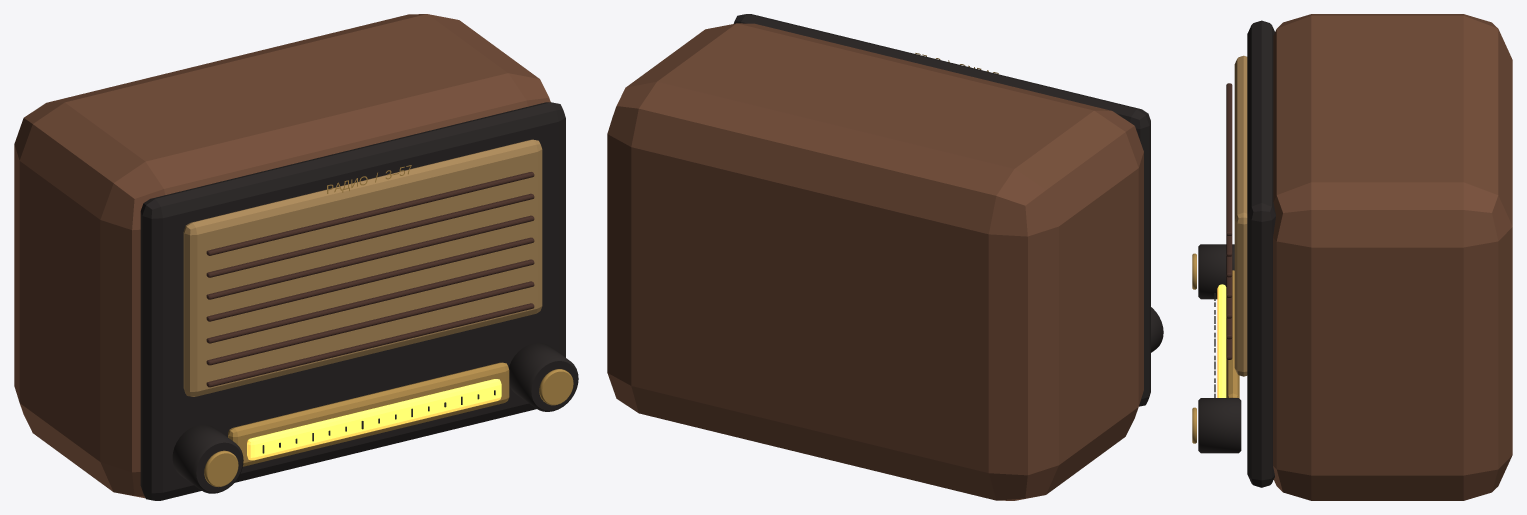
The model's file is ValveRadio.fbx.
3 renders of one model, left to right at view 1: azimuth 30°, elevation 25°; view 2: azimuth 150°, elevation 25°; view 3: azimuth 270°, elevation 25°, orthographic. The views are drawn at different scales.
Parts seen in each view (by area): view 1: Veneered housing, Speaker grille, Bakelite fascia, Tuning window, Warm tuning scale, Tuning control, Tuning control.001, Grille rib.003, Grille rib.001, Grille rib, Grille rib.005, Grille rib.006 (+4 smaller); view 2: Veneered housing, Bakelite fascia; view 3: Veneered housing, Bakelite fascia, Speaker grille, Tuning control.001, Tuning control, Warm tuning scale, Grille rib.006, Tuning window.
Boxes of the visible parts, left/top/right/bottom form: Veneered housing: left=14, top=14, right=550, bottom=498; Speaker grille: left=183, top=139, right=542, bottom=396; Bakelite fascia: left=140, top=102, right=565, bottom=500; Tuning window: left=228, top=362, right=509, bottom=466; Warm tuning scale: left=247, top=379, right=501, bottom=460; Tuning control: left=172, top=424, right=243, bottom=493; Tuning control.001: left=509, top=342, right=578, bottom=411; Grille rib.003: left=206, top=237, right=534, bottom=321; Grille rib.001: left=206, top=281, right=534, bottom=365; Grille rib: left=206, top=303, right=534, bottom=387; Grille rib.005: left=206, top=193, right=534, bottom=277; Grille rib.006: left=206, top=172, right=534, bottom=255; Veneered housing: left=607, top=23, right=1143, bottom=500; Bakelite fascia: left=733, top=14, right=1150, bottom=406; Veneered housing: left=1273, top=14, right=1512, bottom=500; Bakelite fascia: left=1247, top=20, right=1275, bottom=487; Speaker grille: left=1234, top=55, right=1247, bottom=376; Tuning control.001: left=1198, top=398, right=1241, bottom=453; Tuning control: left=1198, top=244, right=1234, bottom=299; Warm tuning scale: left=1217, top=284, right=1226, bottom=397; Grille rib.006: left=1226, top=83, right=1232, bottom=235; Tuning window: left=1226, top=270, right=1239, bottom=398.
Bounding box in the file's own units: 0.411 × 0.292 × 0.2675.
